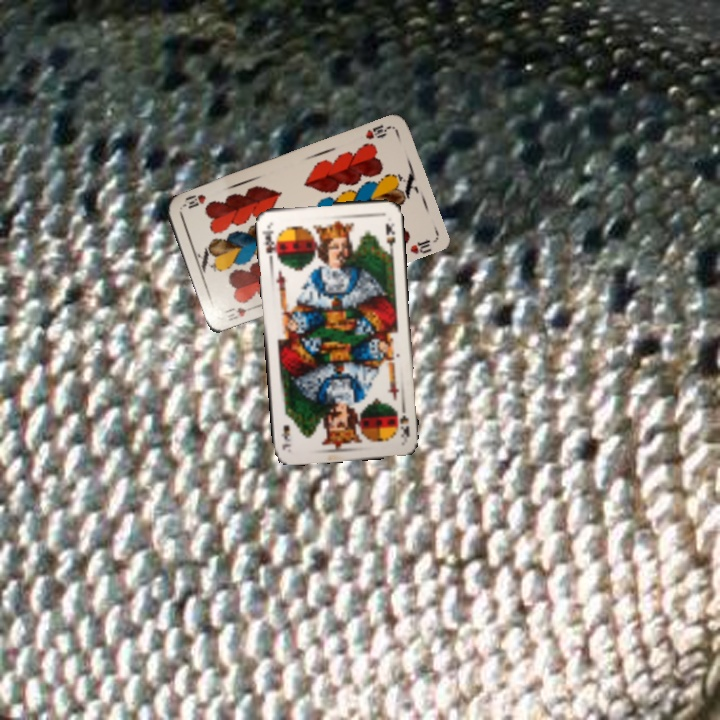H10: (220, 303, 258, 324), (361, 121, 393, 142)
SK: (259, 221, 280, 262), (395, 400, 412, 441)
